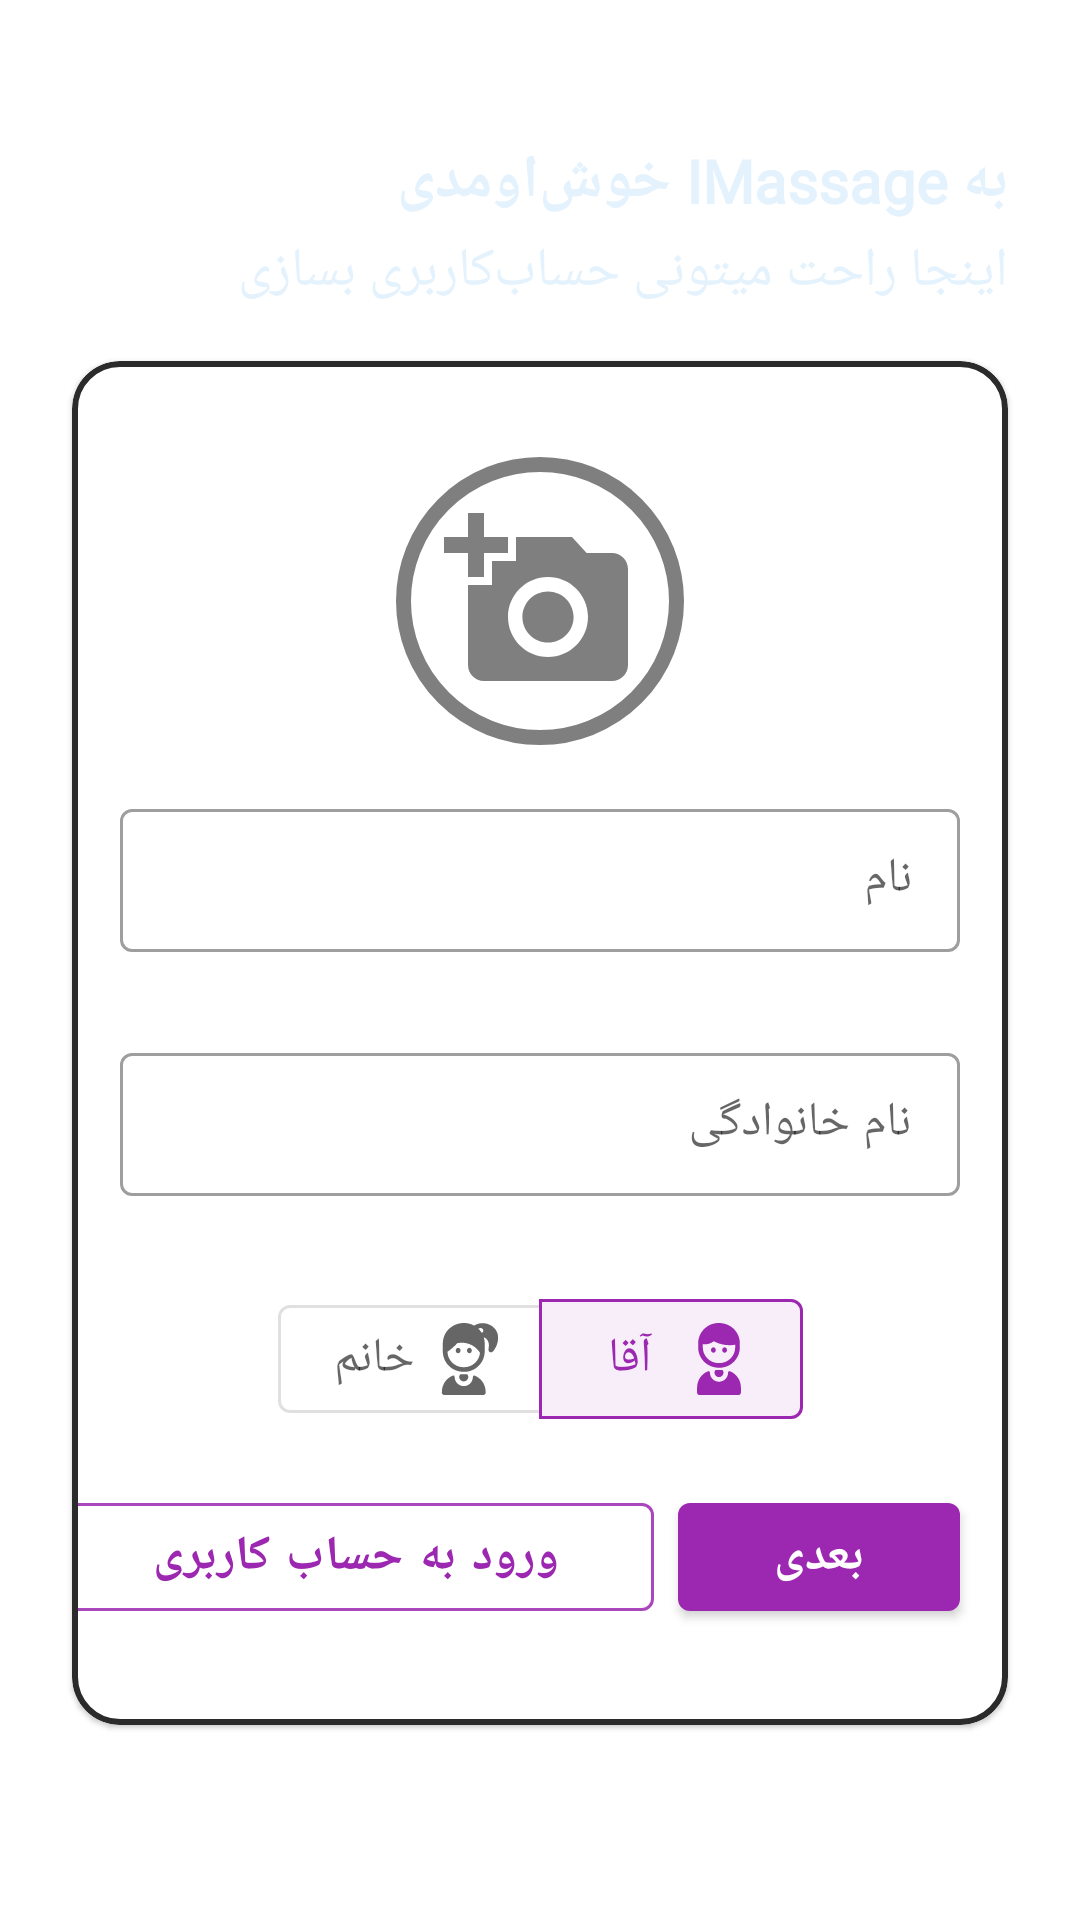

Where icons sit on this 1080×1920 app screen, as bbox(x1, y1, x2, y2):
add photo: bbox(396, 457, 684, 745)
